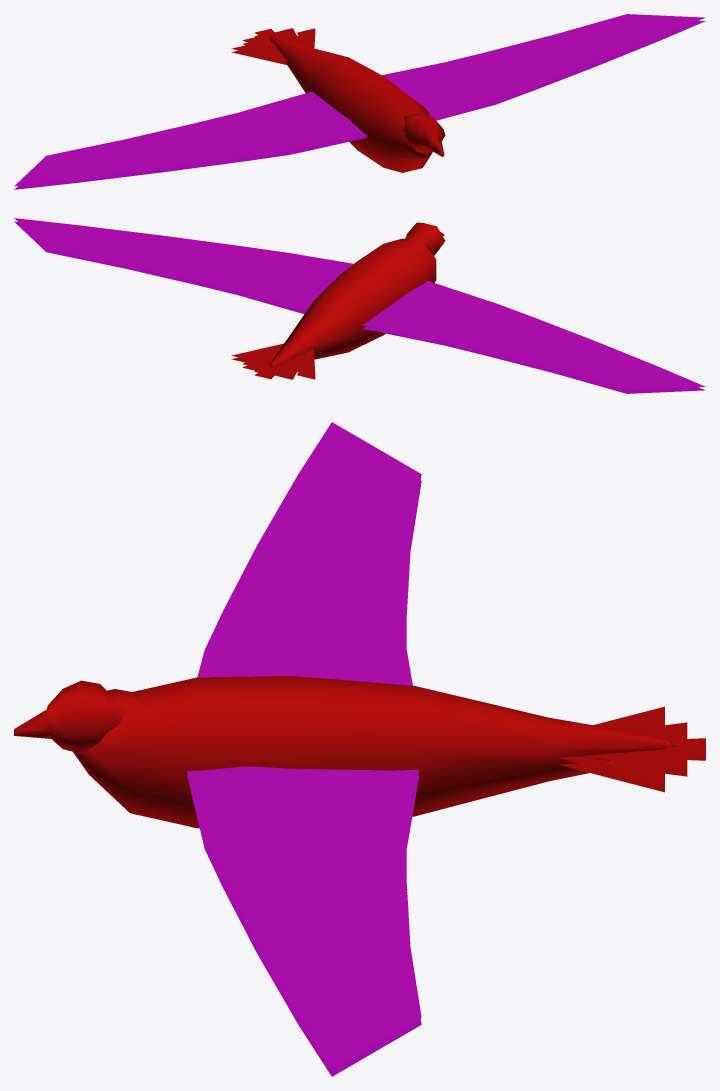
The model's file is glaucous.glb.
3 views of the same model, one above another, from view 1: azimuth 30°, elevation 25°; view 2: azimuth 150°, elevation 25°; view 3: azimuth 270°, elevation 25° (orthographic). The views are drawn at different scales.
Visible parts, largest first — view 1: bird; view 2: bird; view 3: bird.
Boxes of the visible parts, x1,y1,x2,y2 form: bird: (14, 14, 705, 189); bird: (14, 218, 705, 393); bird: (14, 422, 705, 1076).
Size of the model in its own units: 1.6 by 0.1484 by 0.7227.
